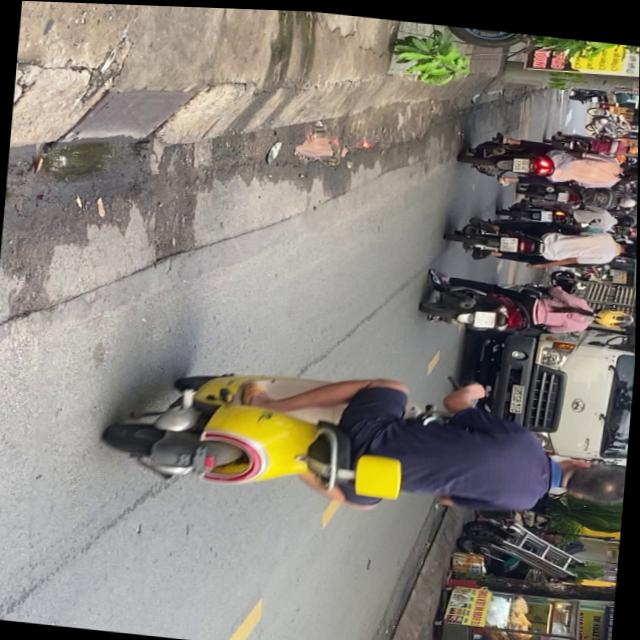helmet: (594, 302, 635, 325), (619, 234, 637, 254), (615, 208, 638, 223)
licenseplate: (98, 338, 633, 539), (420, 265, 636, 343), (444, 206, 638, 274), (459, 123, 639, 194), (501, 191, 638, 231)
motorcyclist: (550, 449, 627, 500), (620, 157, 638, 178)
nohelmet: (476, 306, 497, 325), (501, 232, 520, 248), (513, 152, 530, 168)
